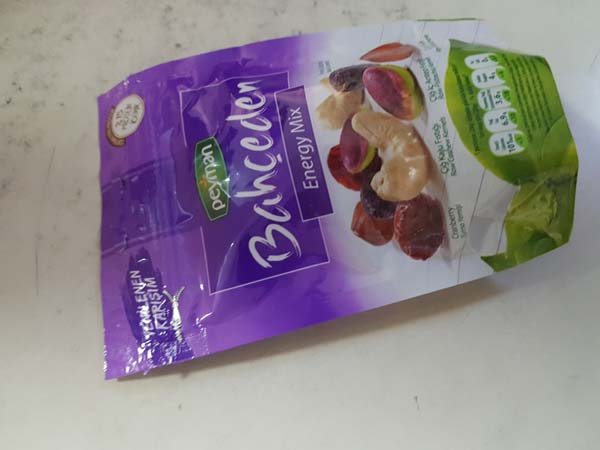bahcedenenergymix: (83, 15, 583, 387)
